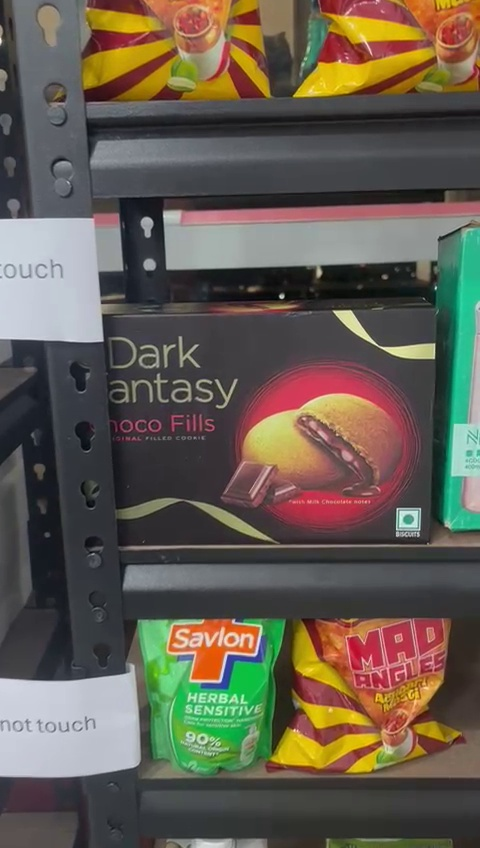Dark Fantasy: (100, 300, 428, 542)
